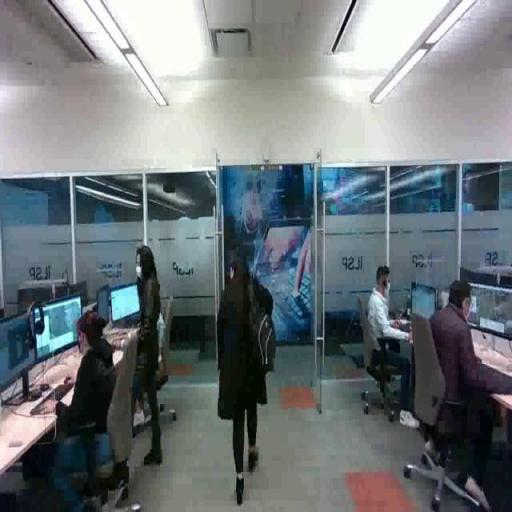person: (215, 252, 276, 512), (135, 246, 170, 467)
